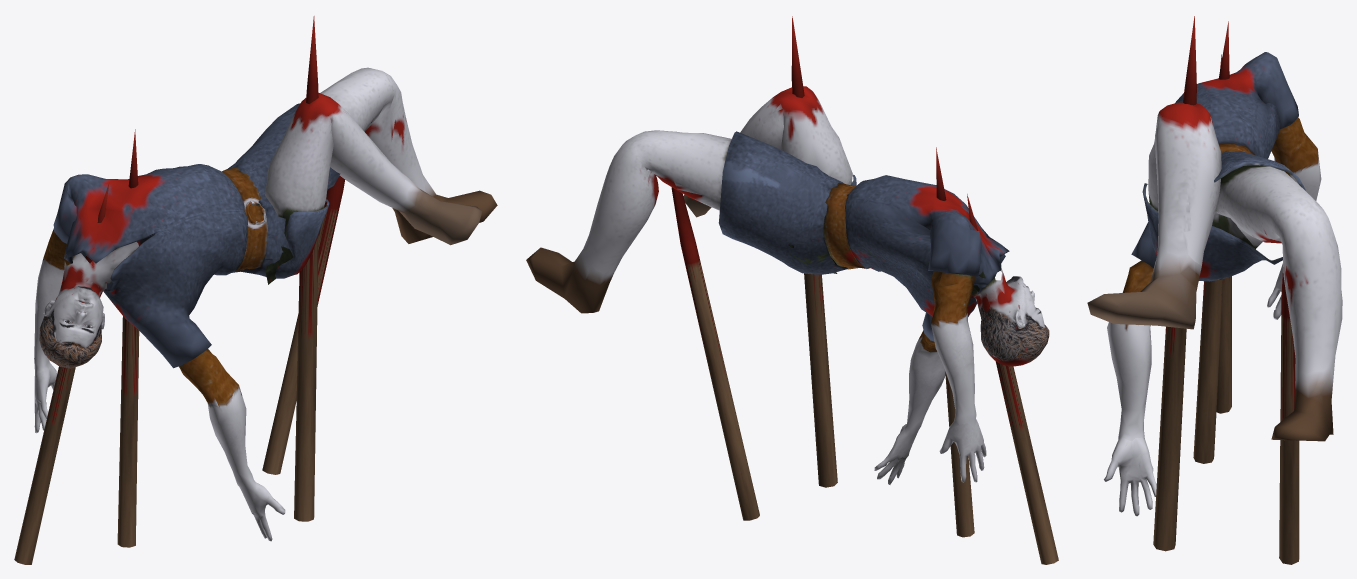
File: mm6_deco_corpse05.glb
3 views of the same model, side by side, from view 1: azimuth 30°, elevation 25°; view 2: azimuth 150°, elevation 25°; view 3: azimuth 270°, elevation 25° (orthographic). The views are drawn at different scales.
Visible parts, largest first — view 1: Corpse05; view 2: Corpse05; view 3: Corpse05.
Boxes of the visible parts, <box> form: Corpse05: <box>14,16,497,564</box>; Corpse05: <box>526,16,1058,564</box>; Corpse05: <box>1087,16,1342,564</box>.
Bounding box in the file's own units: 1.37 × 1.26 × 0.5309.
Materials: 2 (2 with a texture image).
